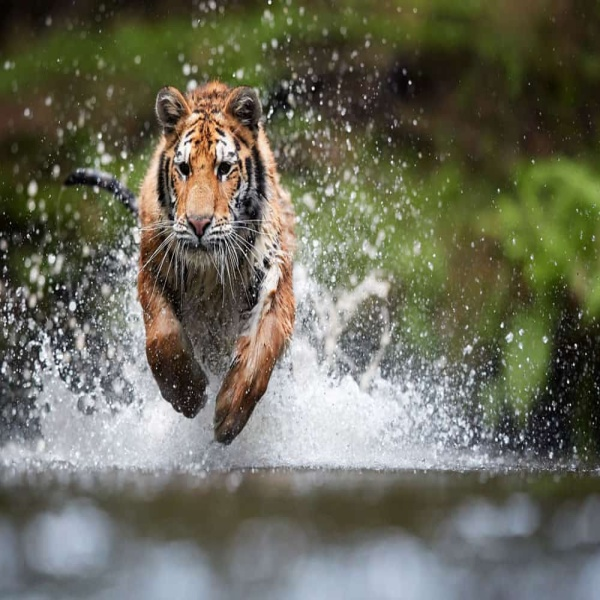Tiger: (65, 76, 317, 447)
